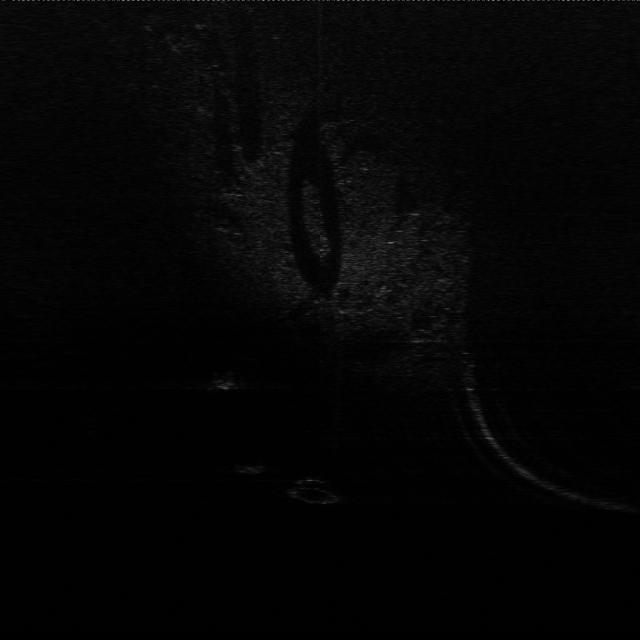cube: (233, 459, 268, 478)
square cage: (202, 368, 247, 396)
tyre: (288, 474, 344, 507)
